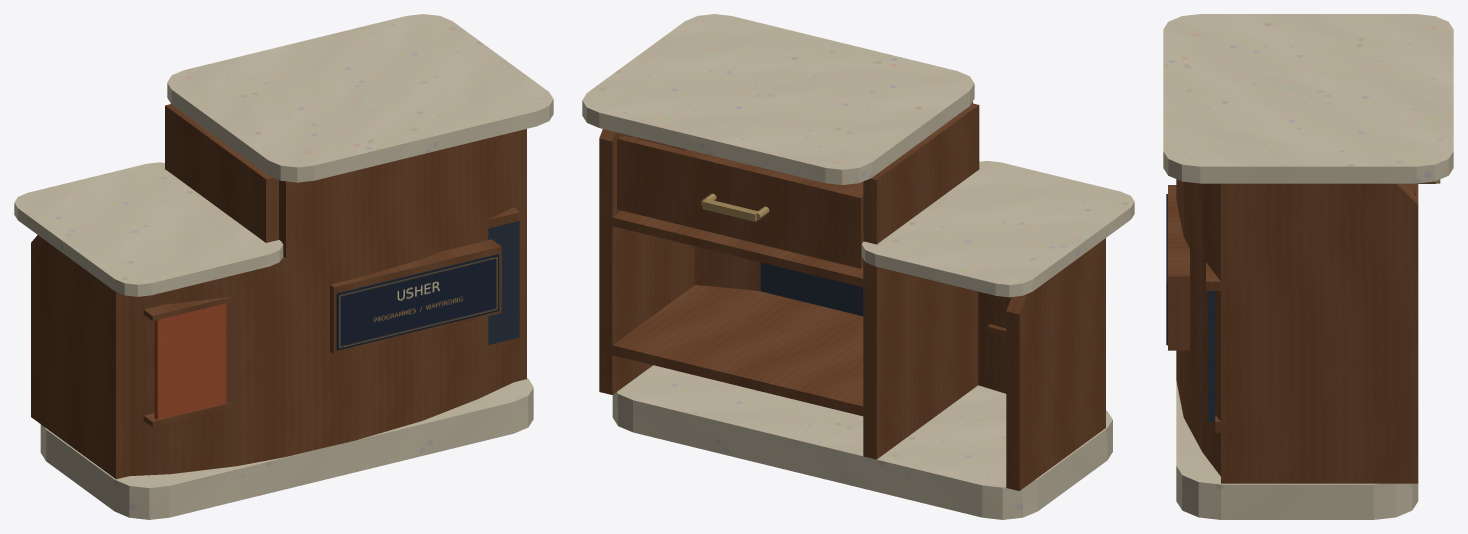
Rendered from AST-CUL-002.glb.
The picture shows the model from 3 angles, left to right: view 1: azimuth 30°, elevation 25°; view 2: azimuth 150°, elevation 25°; view 3: azimuth 270°, elevation 25°; orthographic projection. The views are drawn at different scales.
Visible parts, largest first — view 1: AST-CUL-002__AST-CUL-002__warm_walnut, AST-CUL-002__AST-CUL-002__warm_stone, AST-CUL-002__AST-CUL-002__usher_original, AST-CUL-002__AST-CUL-002__auditorium_amber_velvet, AST-CUL-002__AST-CUL-002__auditorium_navy_fibre; view 2: AST-CUL-002__AST-CUL-002__warm_stone, AST-CUL-002__AST-CUL-002__warm_walnut, AST-CUL-002__USHER_DRAWER__warm_walnut, AST-CUL-002__AST-CUL-002__auditorium_navy_fibre, AST-CUL-002__USHER_DRAWER__champagne_metal; view 3: AST-CUL-002__AST-CUL-002__warm_walnut, AST-CUL-002__AST-CUL-002__warm_stone, AST-CUL-002__AST-CUL-002__auditorium_navy_fibre.
Boxes of the visible parts, x1,y1,x2,y2 form: AST-CUL-002__AST-CUL-002__warm_walnut: [31, 104, 526, 479]; AST-CUL-002__AST-CUL-002__warm_stone: [14, 14, 553, 519]; AST-CUL-002__AST-CUL-002__usher_original: [336, 254, 499, 350]; AST-CUL-002__AST-CUL-002__auditorium_amber_velvet: [154, 303, 226, 419]; AST-CUL-002__AST-CUL-002__auditorium_navy_fibre: [488, 221, 519, 344]; AST-CUL-002__AST-CUL-002__warm_stone: [582, 14, 1134, 519]; AST-CUL-002__AST-CUL-002__warm_walnut: [599, 101, 1105, 490]; AST-CUL-002__USHER_DRAWER__warm_walnut: [617, 135, 863, 268]; AST-CUL-002__AST-CUL-002__auditorium_navy_fibre: [760, 262, 863, 316]; AST-CUL-002__USHER_DRAWER__champagne_metal: [701, 193, 769, 221]; AST-CUL-002__AST-CUL-002__warm_walnut: [1168, 179, 1418, 483]; AST-CUL-002__AST-CUL-002__warm_stone: [1163, 14, 1453, 519]; AST-CUL-002__AST-CUL-002__auditorium_navy_fibre: [1208, 291, 1215, 421].
Bounding box in the file's own units: 1.51 × 1.07 × 0.78.
6 materials, 6 textured.
